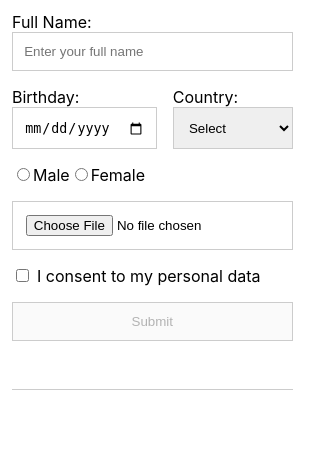
Test case: Form Page › user must enter fullName
Step 1. Click the checkbox with test id "confirmationInput" → (22, 275), box [16, 269, 29, 282]
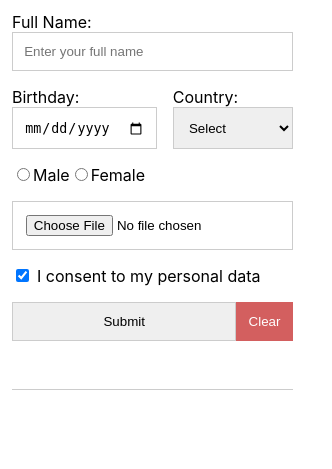
Step 2. Click the button with test id "submit-button" → (124, 321), box [12, 302, 236, 341]
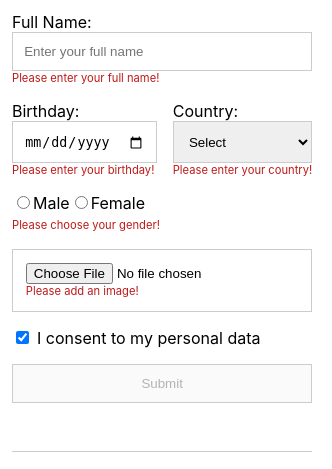
Expected: the text "Please enter your full name!" is shown, [12, 71, 159, 85]
